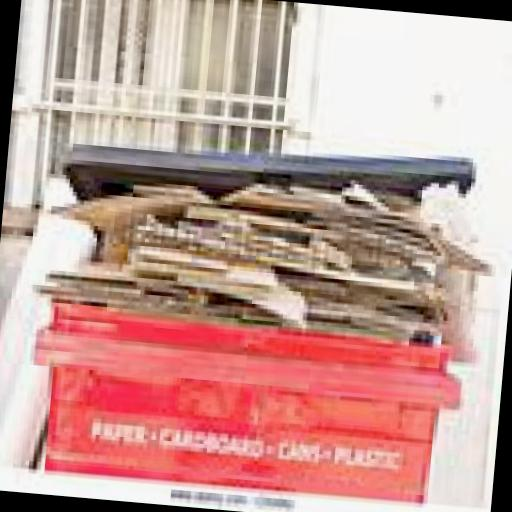cardboard: (220, 168, 494, 268), (404, 178, 492, 360), (129, 192, 344, 258), (46, 170, 206, 240), (277, 258, 443, 308), (33, 249, 199, 299), (175, 262, 306, 316), (126, 241, 276, 286), (302, 292, 445, 336), (124, 236, 222, 268), (91, 230, 122, 256)
